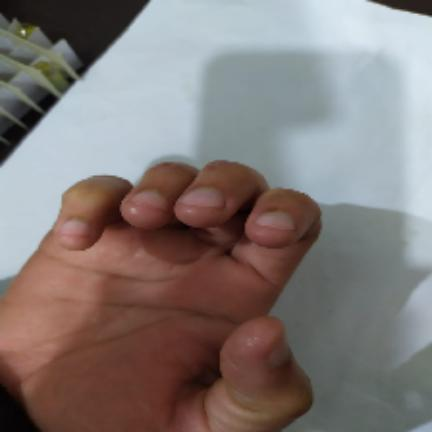Nail: (179, 187, 224, 208), (268, 329, 292, 368), (256, 212, 295, 230), (131, 190, 166, 208), (62, 219, 89, 235)
